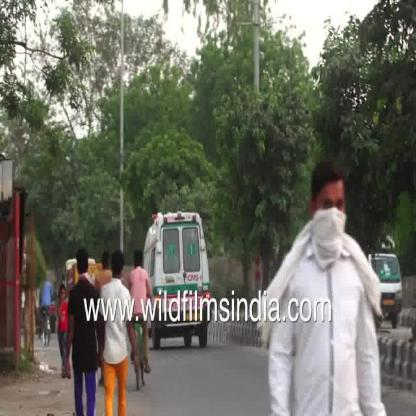priority: (148, 215, 216, 285)
